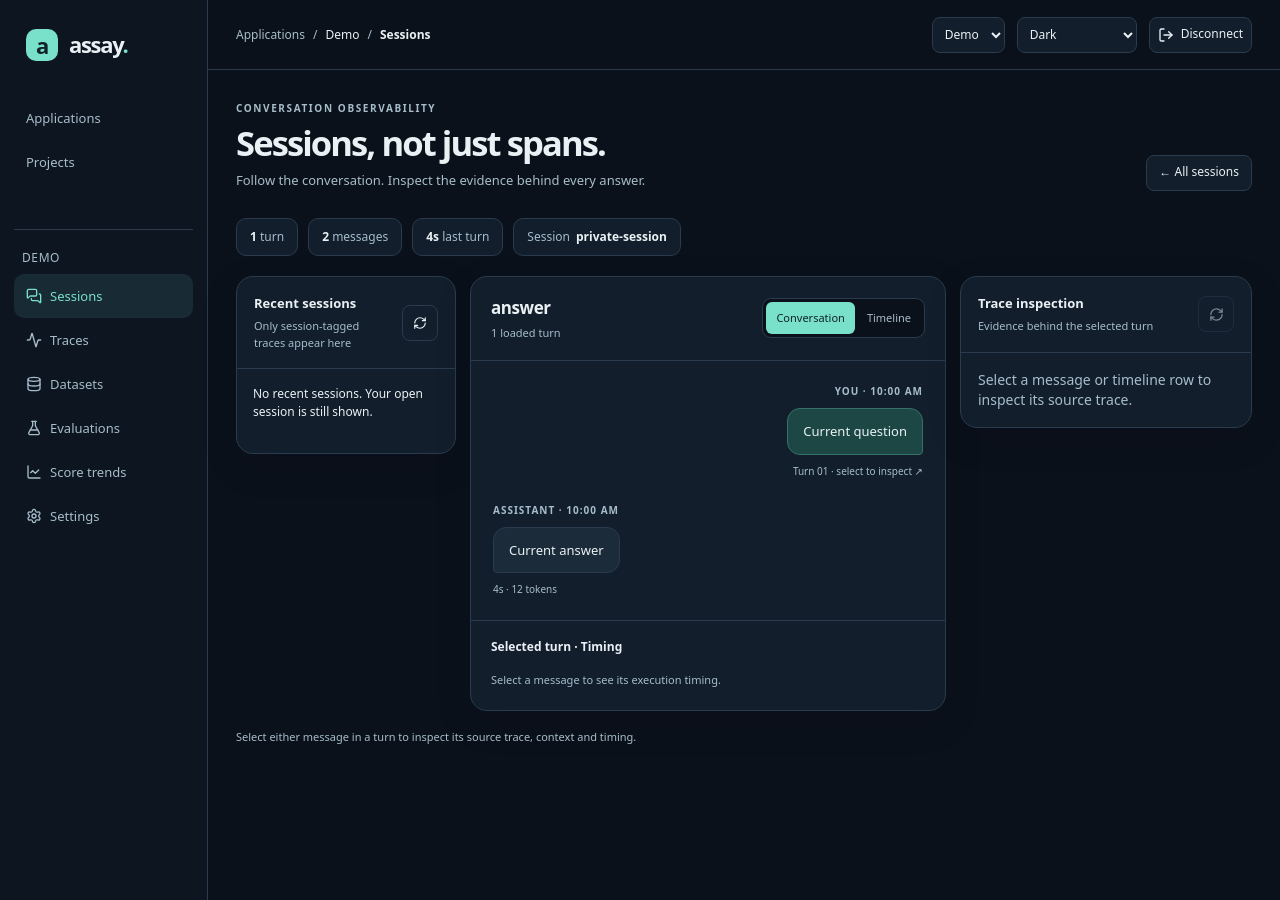
refreshes asynchronous scores without leaving the session
What coordinates should you click on to do the following:
click the button named "Inspect source for assistant message"
I would click on:
 (556, 550)
Its box is [493,527,620,573].
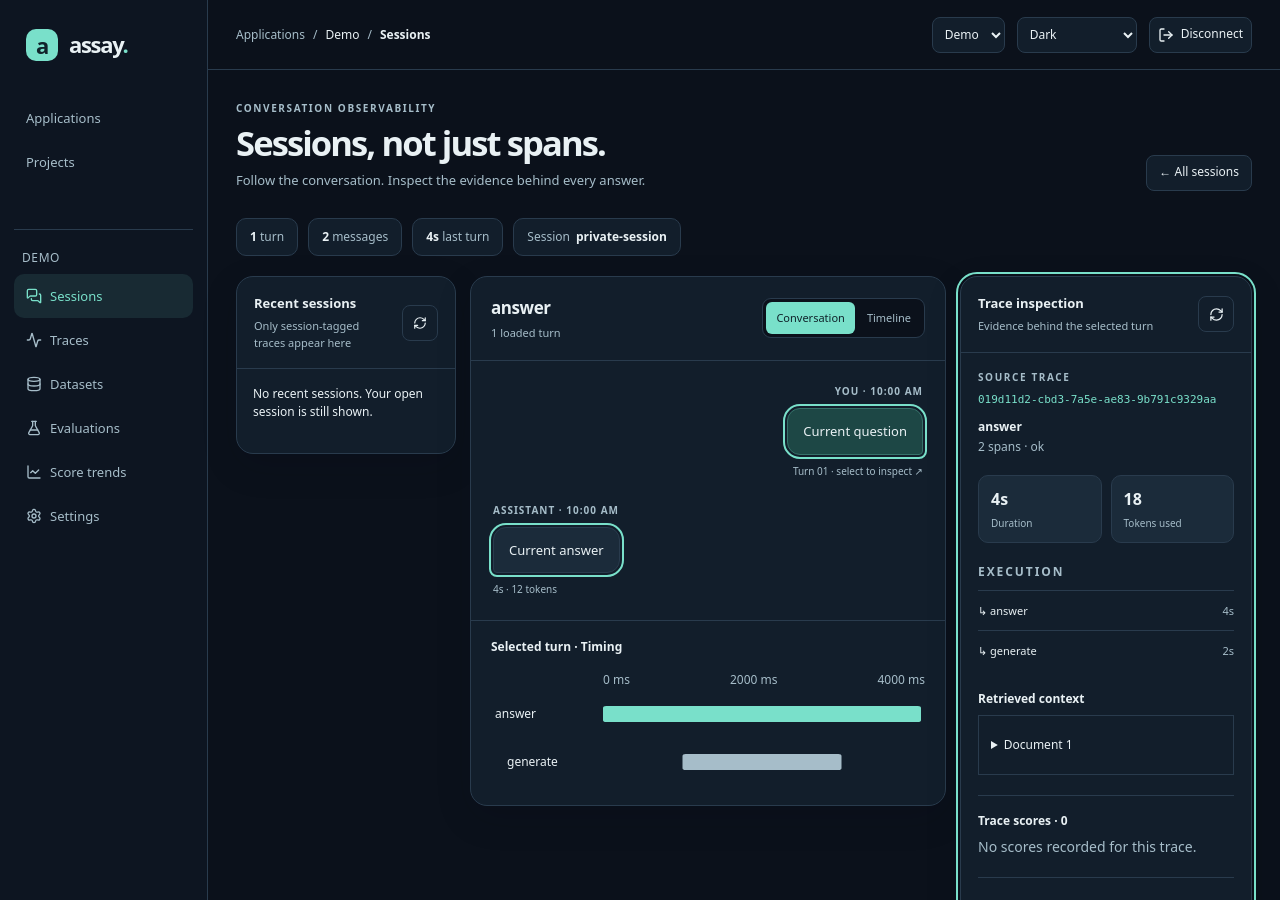
Result: the text "No scores recorded for this trace." is shown at [978,837,1234,857]
What coordinates should you click on to do the following:
click the button named "Refresh source trace"
I would click on:
 (1216, 314)
Its box is [1198,296,1234,332].
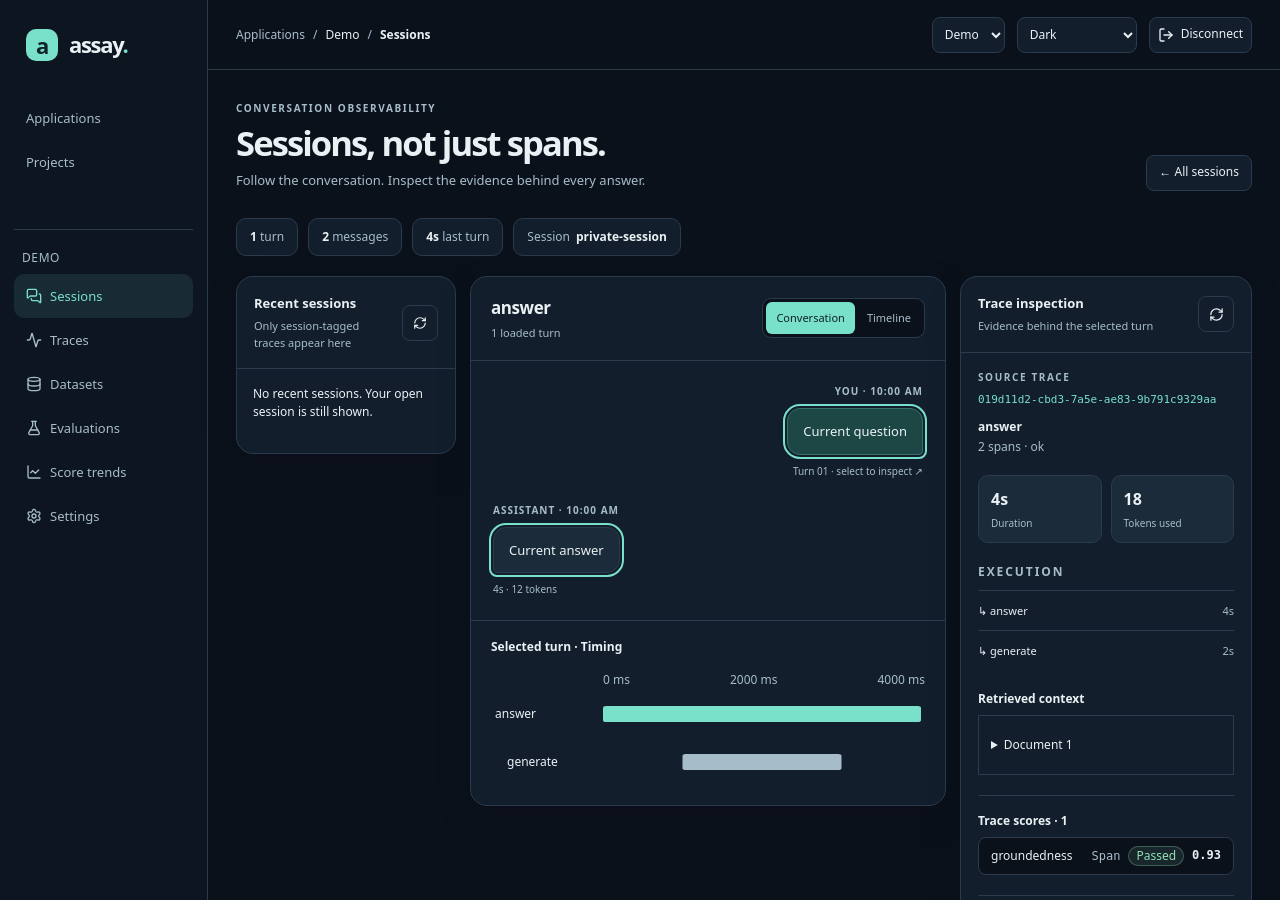
Result: the text "groundedness" is shown at [991,847,1072,864]
